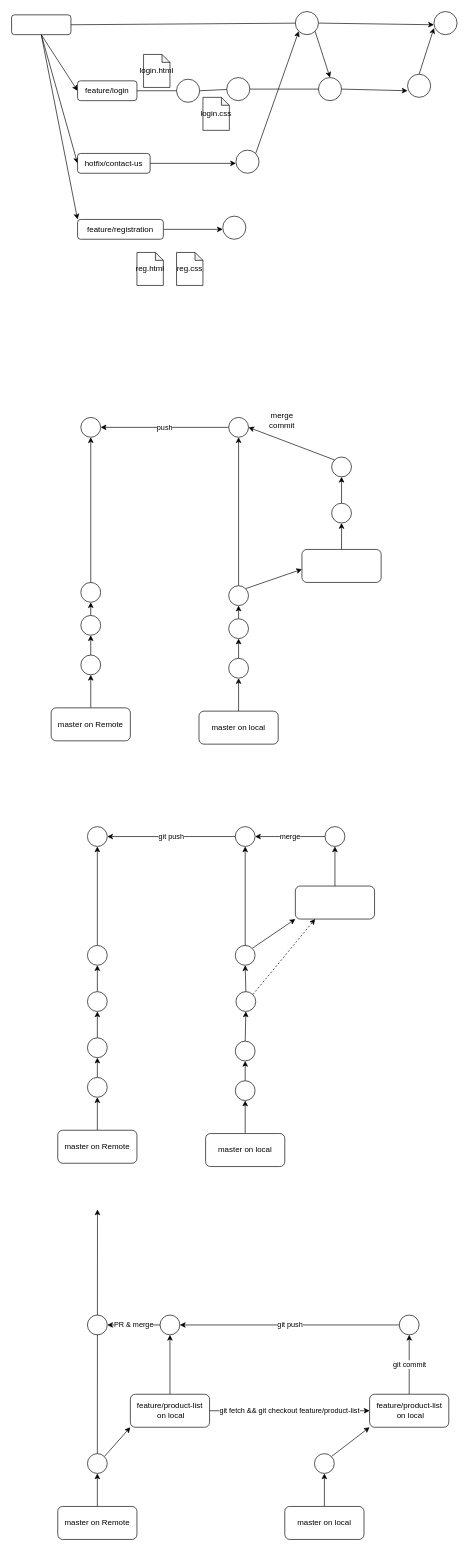
This 469x1551 diagram has some shape labels left out. Each missing label, with the centre of its shape:
"feature-contactus on local" belongs at pixel 335 902.
"feature-login on local" belongs at pixel 341 565.
"master" belongs at pixel 41 24.
